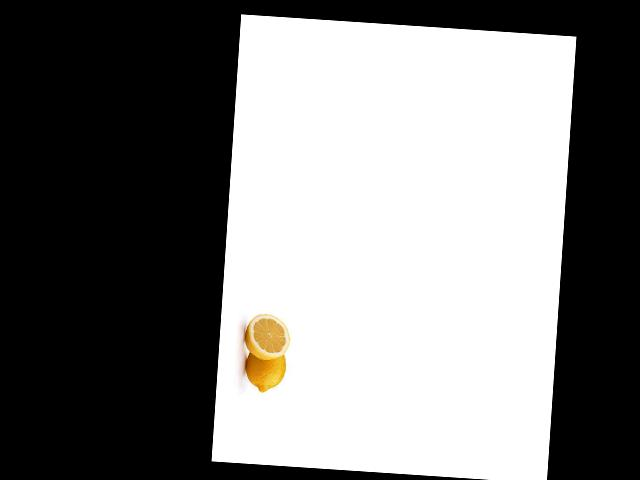lemon: (239, 348, 289, 394)
